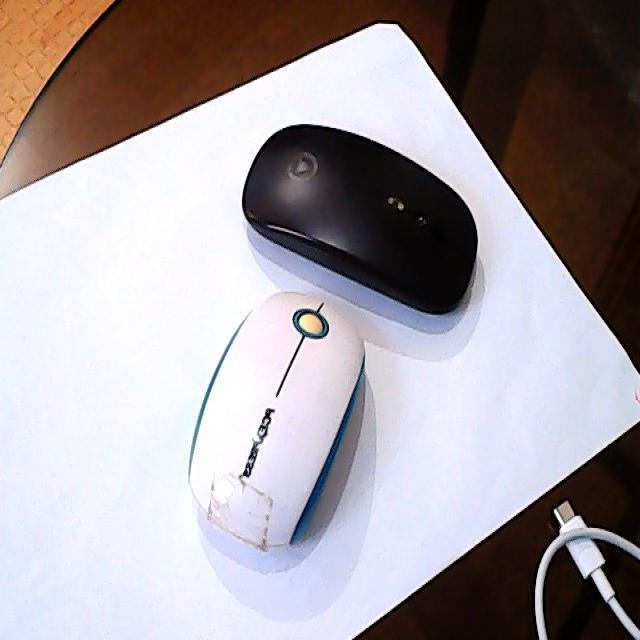mouse: (130, 312, 392, 578), (242, 133, 466, 288)
